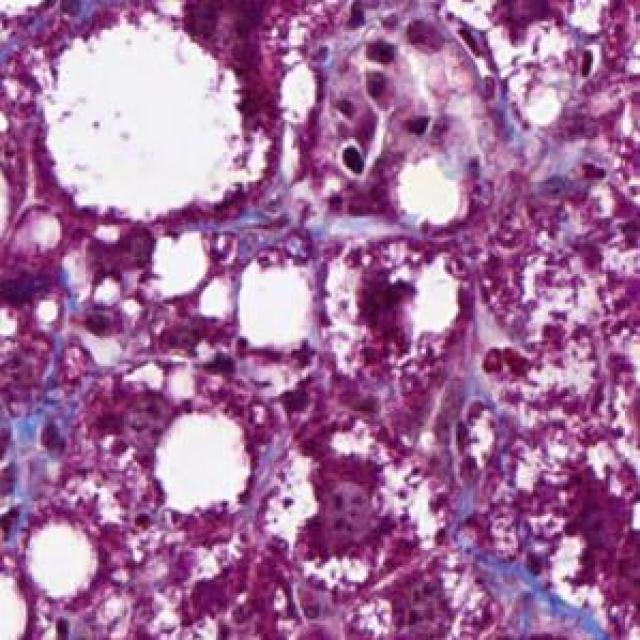inflammation: (342, 2, 404, 107), (342, 137, 370, 190), (404, 112, 438, 144)
